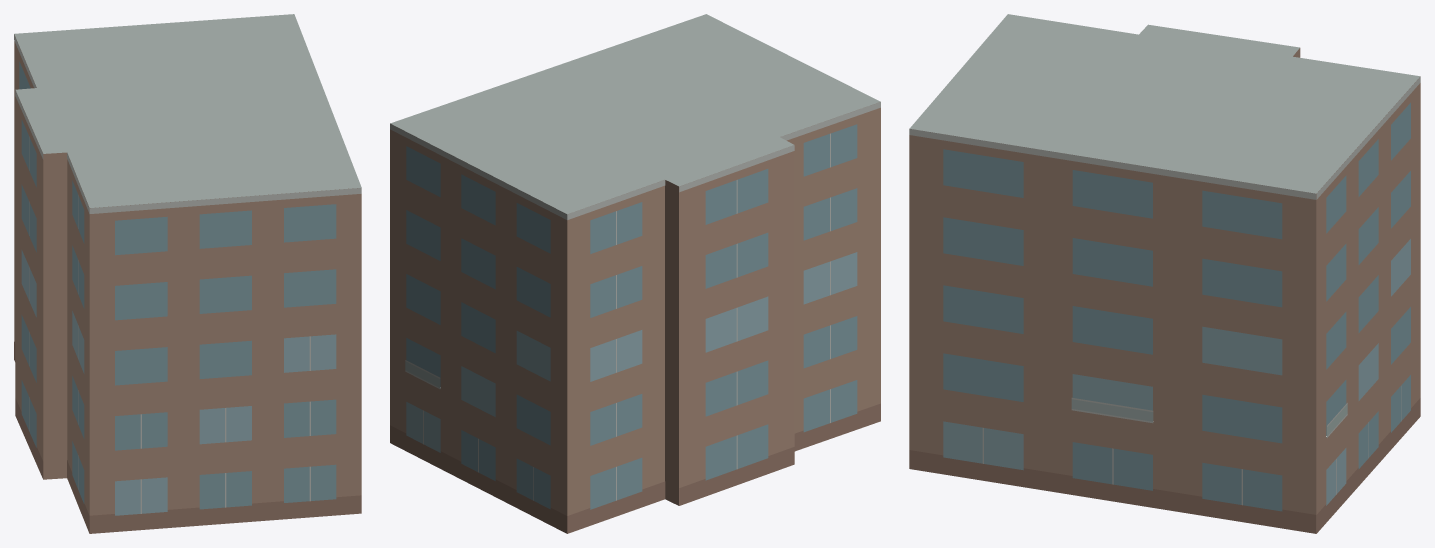
The model's file is survey-upis-32891744.glb.
3 renders of one model, left to right at view 1: azimuth 30°, elevation 25°; view 2: azimuth 150°, elevation 25°; view 3: azimuth 270°, elevation 25°, orthographic. The views are drawn at different scales.
Visible parts, largest first — view 1: survey-upis-32891744.tmp; view 2: survey-upis-32891744.tmp; view 3: survey-upis-32891744.tmp.
Boxes of the visible parts, x1=… form: survey-upis-32891744.tmp: x1=14, y1=14, x2=361, y2=533; survey-upis-32891744.tmp: x1=390, y1=14, x2=880, y2=533; survey-upis-32891744.tmp: x1=909, y1=14, x2=1420, y2=533.
Size of the model in its own units: 14.96 by 13.2 by 17.98.
